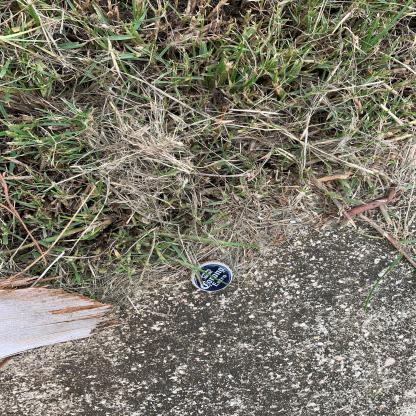trash: (186, 258, 235, 294)
